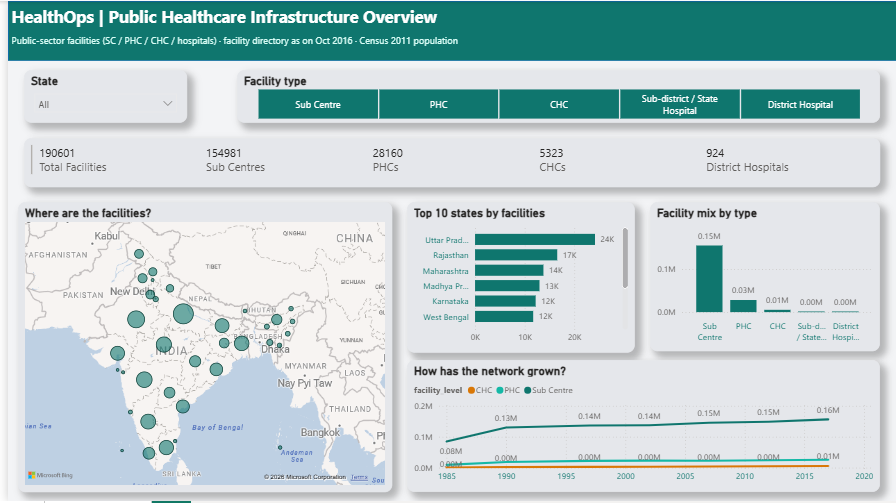

This screenshot's page, from the dashboard's own definition file:
{"tool":"powerbi","page":{"name":"Overview","canvas":[1280,720],"ordinal":0},"visuals":[{"type":"shape","box":[0,0,1280.2,86.4],"z":0},{"type":"textbox","box":[0,0,1280.2,43.2],"z":1000},{"type":"textbox","box":[0,43.2,1280.2,43.2],"z":2000},{"type":"slicer","title":"State","fields":{"Values":["dim_state.state_key"]},"box":[23.8,98.8,235,76.2],"z":3000},{"type":"slicer","title":"Facility type","fields":{"Values":["dim_facility_type.type_label"]},"box":[330,98.8,926.2,76.2],"z":4000},{"type":"map","title":"Where are the facilities?","fields":{"Y":["fact_facility.lat_map"],"X":["fact_facility.lon_map"],"Category":["dim_state.state_name"],"Size":["_Measures.Total Facilities"]},"box":[13.8,290,538.8,417.5],"z":5000},{"type":"clusteredBarChart","title":"Top 10 states by facilities","fields":{"Category":["dim_state.state_name"],"Y":["_Measures.Total Facilities"]},"box":[574.6,289.4,328.3,217.4],"z":6000},{"type":"clusteredColumnChart","title":"Facility mix by type","fields":{"Category":["dim_facility_type.type_label"],"Y":["_Measures.Total Facilities"]},"box":[924.5,289.4,331.2,214.6],"z":7000},{"type":"lineChart","title":"How has the network grown?","fields":{"Category":["fact_trend.year"],"Y":["_Measures.Functioning Count"],"Series":["fact_trend.facility_level"]},"box":[574.6,517,681.1,190.1],"z":8000},{"type":"multiRowCard","fields":{"Values":["_Measures.Total Facilities","_Measures.Sub Centres","_Measures.PHCs","_Measures.CHCs","_Measures.District Hospitals"]},"box":[23.8,197.5,1232.5,71.2],"z":9000}]}

Visuals, with their boxes in screenshot pixels (x1, y1, x2, y2), scaled from the page's 1280x720 canvas onto the 896x503 screenshot:
shape: BBox(0, 0, 895, 60)
textbox: BBox(0, 0, 895, 30)
textbox: BBox(0, 30, 895, 60)
"State" slicer: BBox(17, 69, 181, 122)
"Facility type" slicer: BBox(231, 69, 879, 122)
"Where are the facilities?" map: BBox(10, 203, 387, 494)
"Top 10 states by facilities" clusteredBarChart: BBox(402, 202, 632, 354)
"Facility mix by type" clusteredColumnChart: BBox(647, 202, 879, 352)
"How has the network grown?" lineChart: BBox(402, 361, 879, 494)
multiRowCard - _Measures.Total Facilities x _Measures.Sub Centres: BBox(17, 138, 879, 188)
